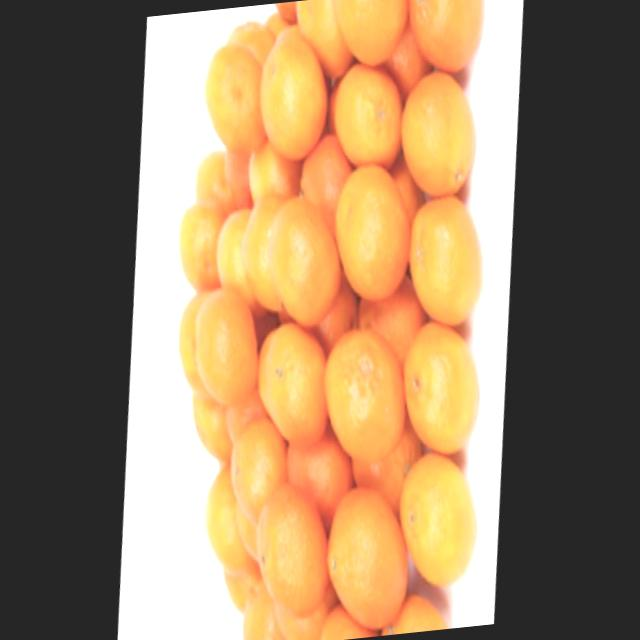orange: (376, 434, 491, 598), (394, 181, 496, 341), (315, 490, 421, 640), (382, 52, 484, 206), (240, 477, 339, 614), (328, 162, 424, 302), (312, 343, 411, 462), (242, 320, 331, 450), (399, 326, 488, 452), (187, 286, 273, 408), (316, 55, 411, 164), (248, 37, 334, 154), (190, 42, 272, 158), (221, 412, 299, 519), (267, 212, 341, 320), (407, 0, 494, 82), (187, 465, 254, 569), (328, 0, 417, 72), (193, 150, 254, 224), (178, 210, 232, 289)
